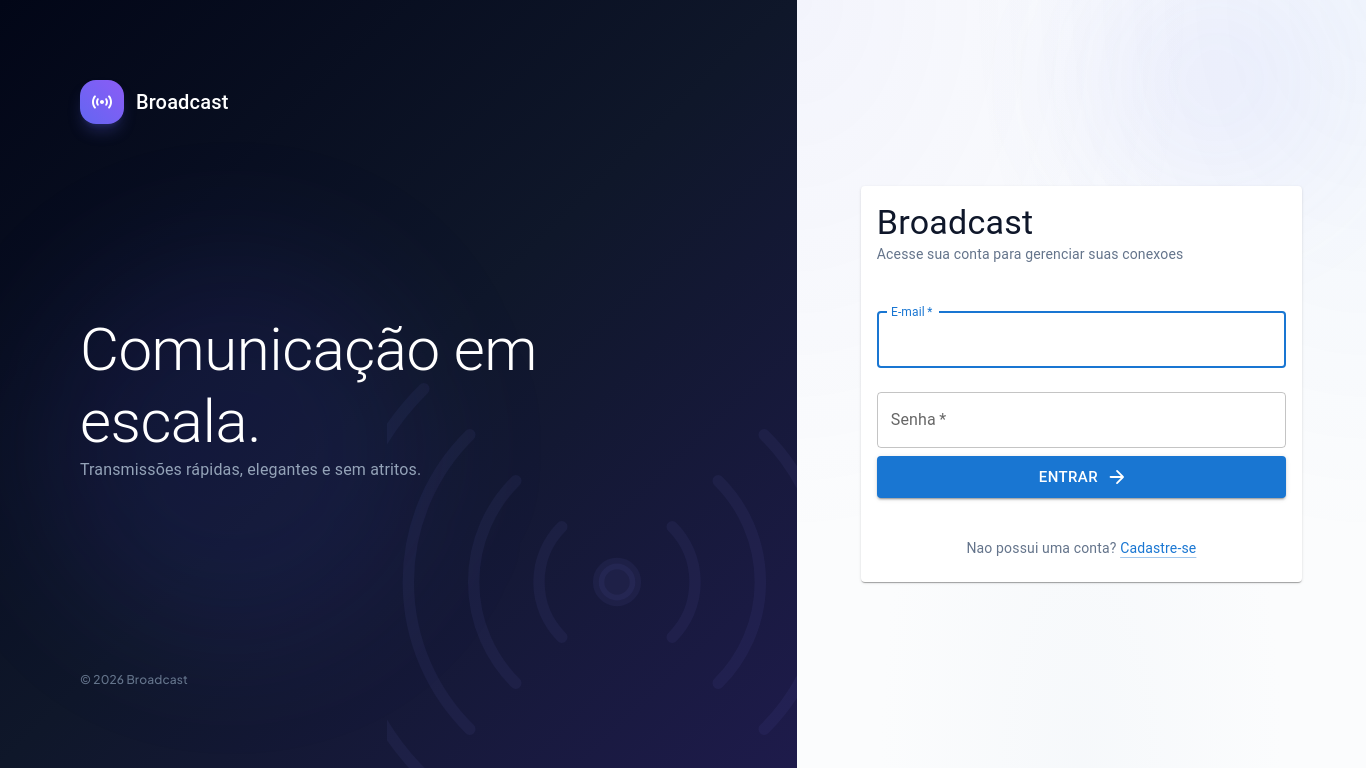
Test case: LoginPage › deve exibir erro de validacao se tentar submeter vazio
What coordinates should you click on to do the following:
click the button "Entrar"
I would click on:
 (1081, 477)
Its box is [877,456,1286,498].
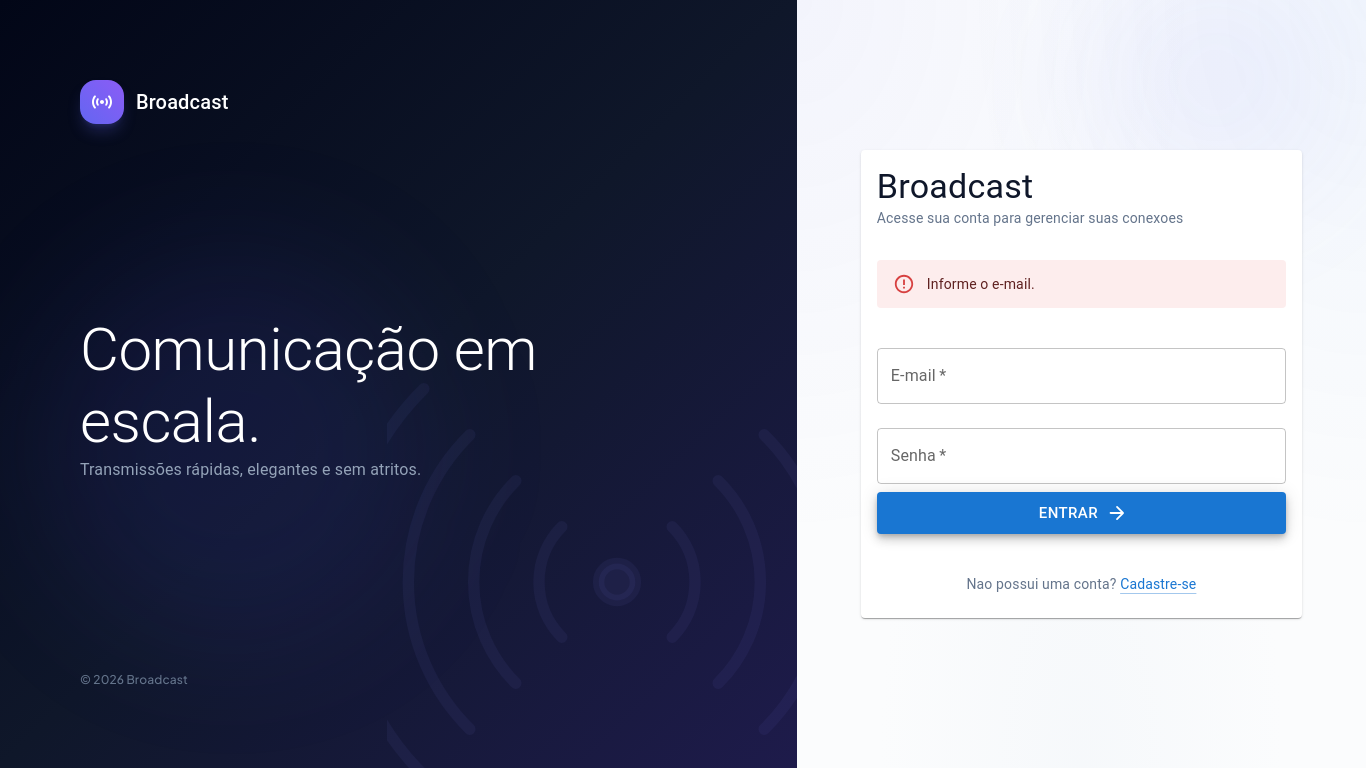
Expected: the text "Informe o e-mail." is shown, [927,276,1035,292]
